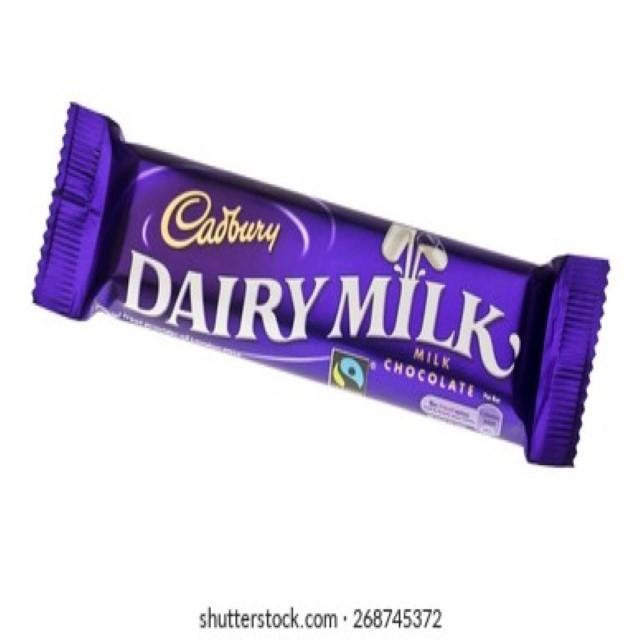cadbury_chocolate: (61, 107, 592, 493)
